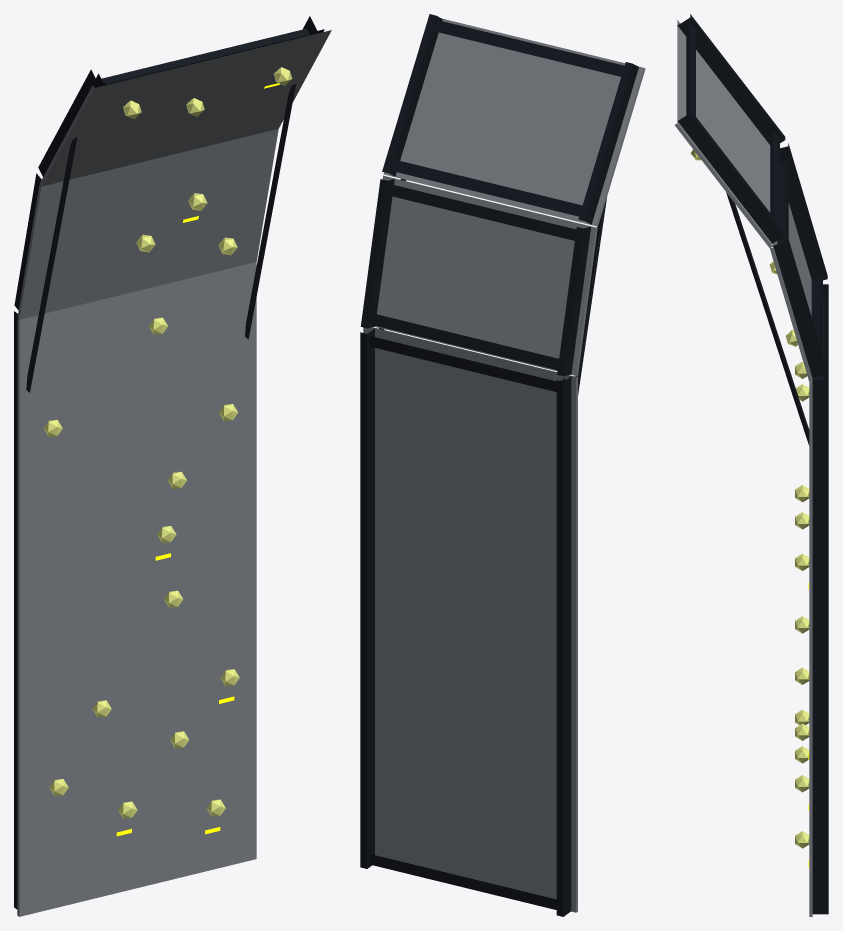
The model's file is boulder.glb.
3 renders of one model, left to right at view 1: azimuth 30°, elevation 25°; view 2: azimuth 150°, elevation 25°; view 3: azimuth 270°, elevation 25°, orthographic. The views are drawn at different scales.
Parts seen in each view (by area): view 1: Face_Sheet, Sub_Frame, Holds; view 2: Face_Sheet, Sub_Frame; view 3: Sub_Frame, Face_Sheet, Holds.
Part boxes in pixels (x1=…): Face_Sheet: x1=17, y1=30, x2=331, y2=916; Sub_Frame: x1=14, y1=16, x2=324, y2=909; Holds: x1=43, y1=67, x2=292, y2=818; Face_Sheet: x1=363, y1=18, x2=645, y2=912; Sub_Frame: x1=360, y1=14, x2=638, y2=916; Sub_Frame: x1=677, y1=14, x2=828, y2=914; Face_Sheet: x1=674, y1=20, x2=812, y2=916; Holds: x1=690, y1=149, x2=809, y2=848.
Size of what is drawn, in the model's own units: 1.25 by 4.5 by 0.7834.
Materials: 4 (1 with a texture image).
